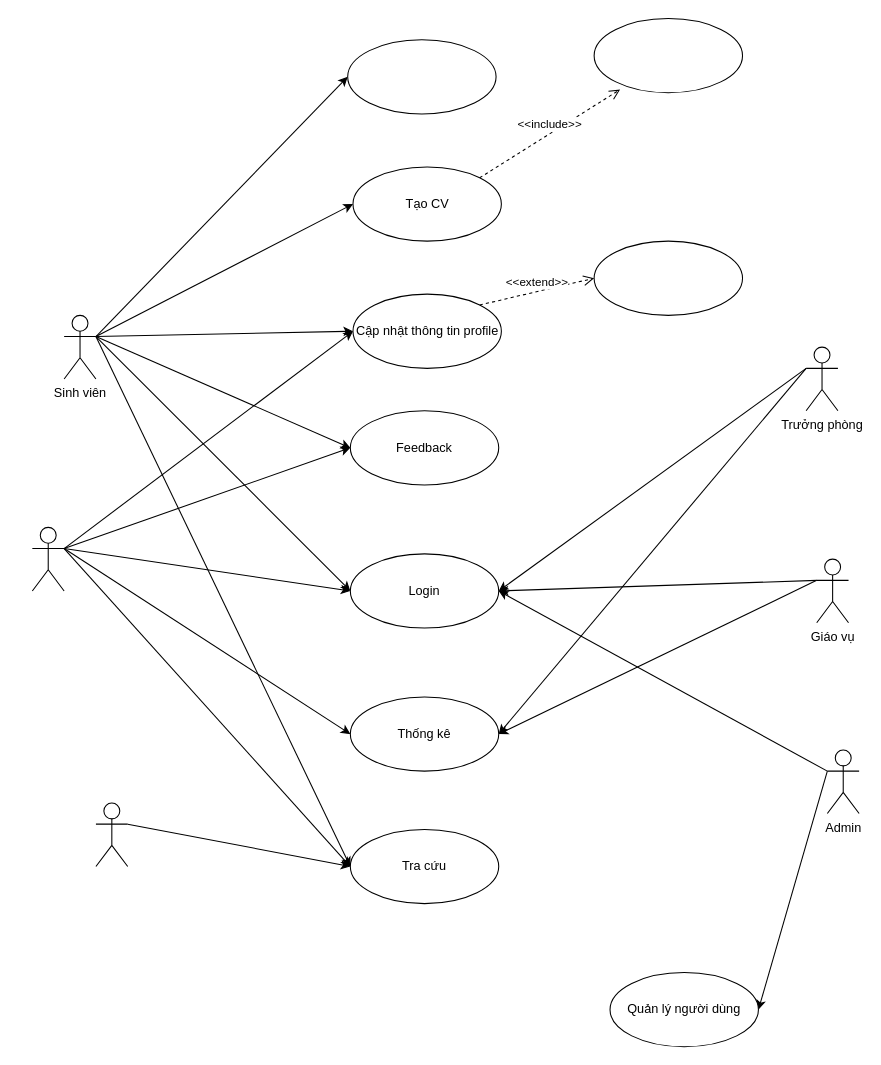
This 881x1065 diagram has some shape labels left out. The centre of each missing label's shape, as x and y in pixels:
"Cập nhật kết quả học tập" goes at pixel 668 277.
"Giảng viên" goes at pixel 47 558.
"in định dạng word, pdf" goes at pixel 668 55.
"Khách" goes at pixel 111 834.
"Đăng ký đồ án, thực tập" goes at pixel 421 76.
